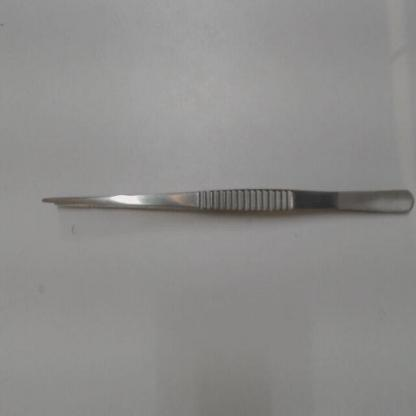DeBakey Dissector: (8, 169, 414, 233)
